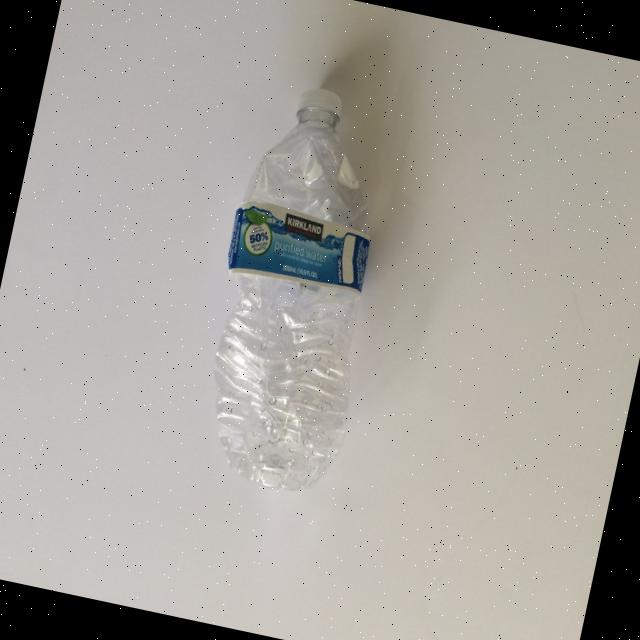plastic: (180, 75, 414, 500)
